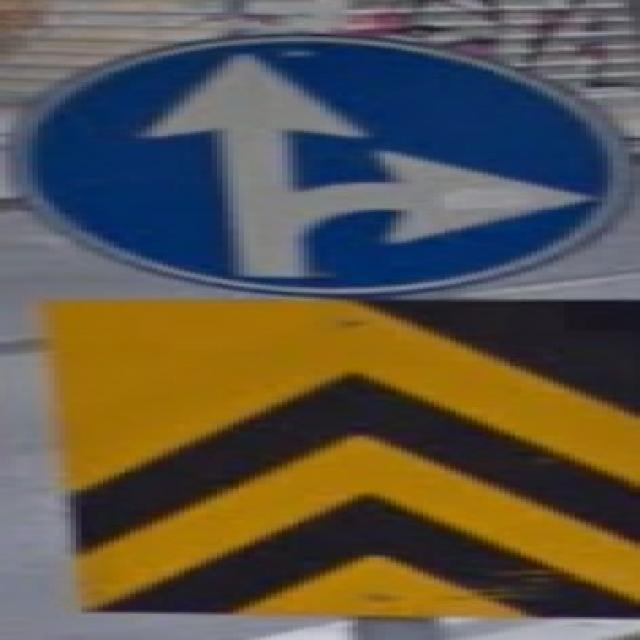Straight or Right: (15, 40, 611, 293)
